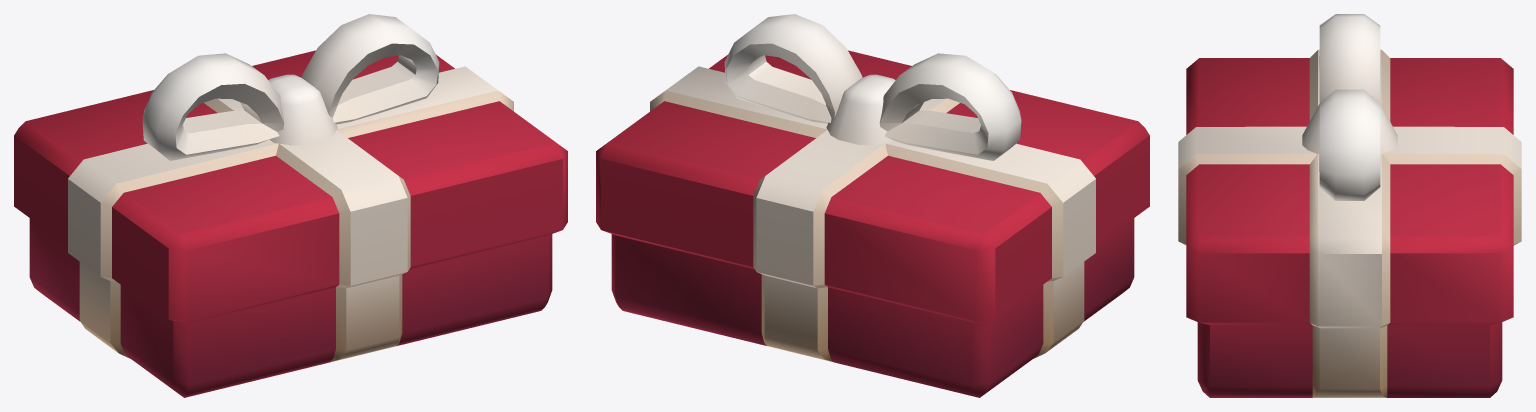
The model's file is present_C_red.fbx.
3 renders of one model, left to right at view 1: azimuth 30°, elevation 25°; view 2: azimuth 150°, elevation 25°; view 3: azimuth 270°, elevation 25°, orthographic. The views are drawn at different scales.
Parts seen in each view (by area): view 1: present_C_red; view 2: present_C_red; view 3: present_C_red.
Part boxes in pixels (x1,y1,x2,y2): present_C_red: (14, 14, 567, 397); present_C_red: (596, 14, 1149, 397); present_C_red: (1178, 14, 1521, 397).
Size of the model in its own units: 0.7638 by 0.4617 by 0.5638.
